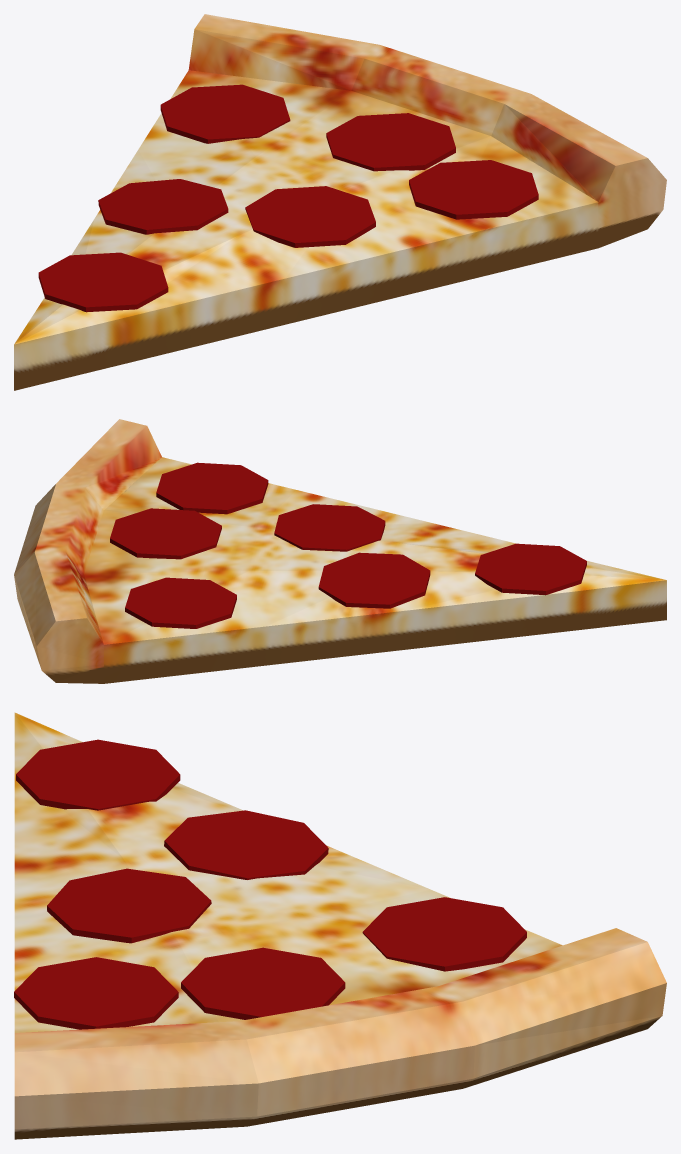
Rendered from pizza_slice.glb.
The picture shows the model from 3 angles, top to bottom: view 1: azimuth 30°, elevation 25°; view 2: azimuth 150°, elevation 25°; view 3: azimuth 270°, elevation 25°; orthographic projection. The views are drawn at different scales.
Visible parts, largest first — view 1: node-0; view 2: node-0; view 3: node-0.
Boxes of the visible parts, x1,y1,x2,y2 form: node-0: [14, 14, 666, 390]; node-0: [14, 419, 666, 683]; node-0: [14, 712, 666, 1139].
Bounding box in the file's own units: 2.66 × 0.3048 × 1.88.
2 materials, 1 textured.
